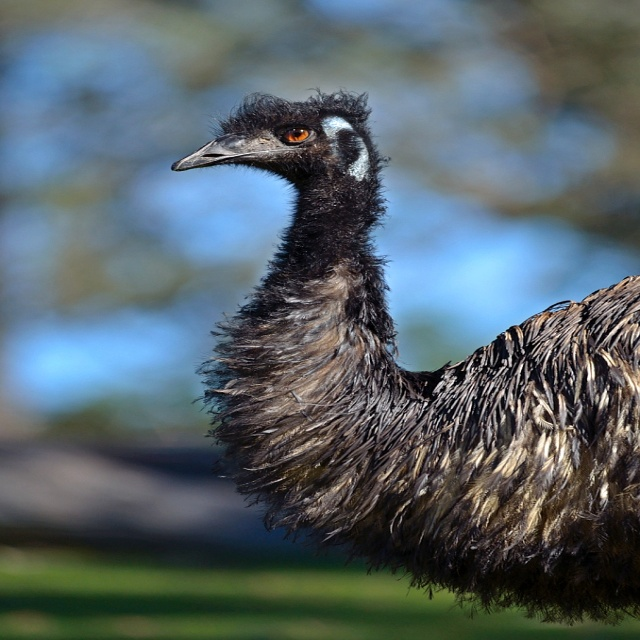Ostrich: (171, 86, 640, 628)
